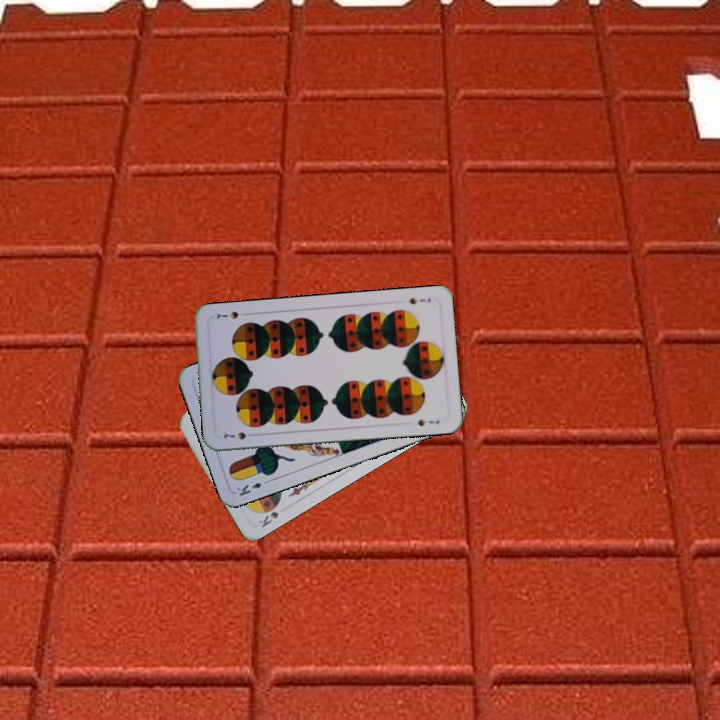EK: (232, 475, 273, 499)
S7: (219, 428, 258, 442), (405, 294, 433, 307)
SK: (254, 507, 281, 530)
